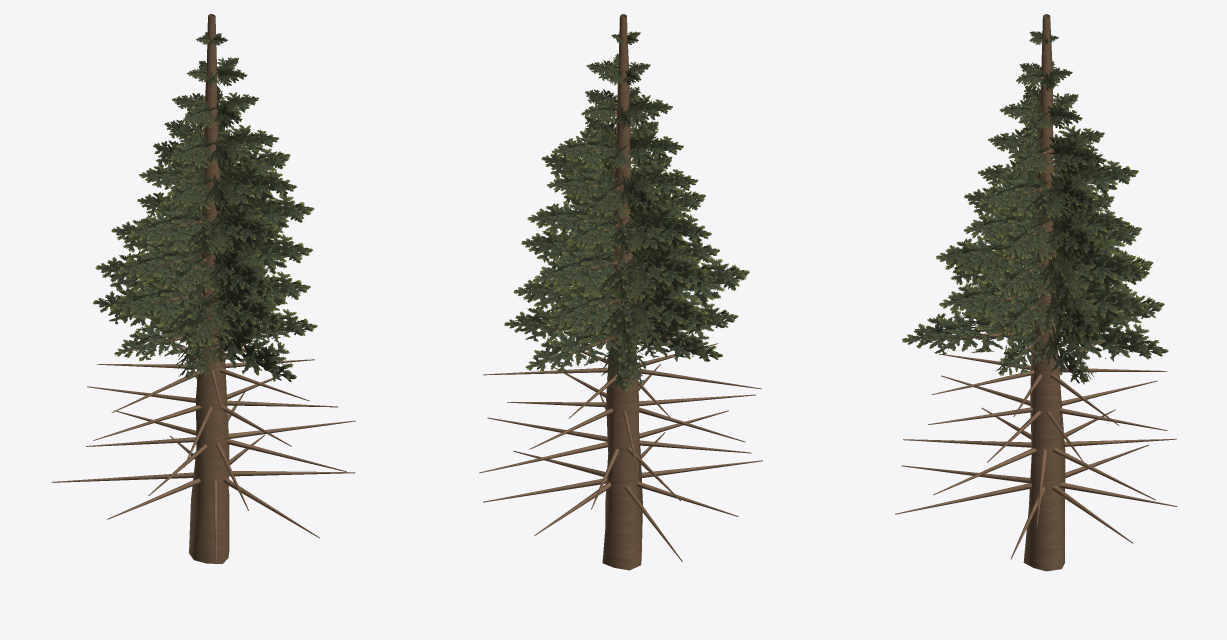
The model's file is pine_tall.glb.
3 renders of one model, left to right at view 1: azimuth 30°, elevation 25°; view 2: azimuth 150°, elevation 25°; view 3: azimuth 270°, elevation 25°, orthographic.
Parts seen in each view (by area): view 1: Foliage, Bark; view 2: Foliage, Bark; view 3: Foliage, Bark.
Part boxes in pixels (x1=…): Foliage: x1=93, y1=32, x2=317, y2=381; Bark: x1=51, y1=14, x2=355, y2=563; Foliage: x1=504, y1=31, x2=749, y2=392; Bark: x1=479, y1=14, x2=762, y2=570; Foliage: x1=902, y1=31, x2=1168, y2=384; Bark: x1=895, y1=14, x2=1177, y2=571.
Bounding box in the file's own units: 6.34 × 10 × 6.09.
Materials: 2 (2 with a texture image).
